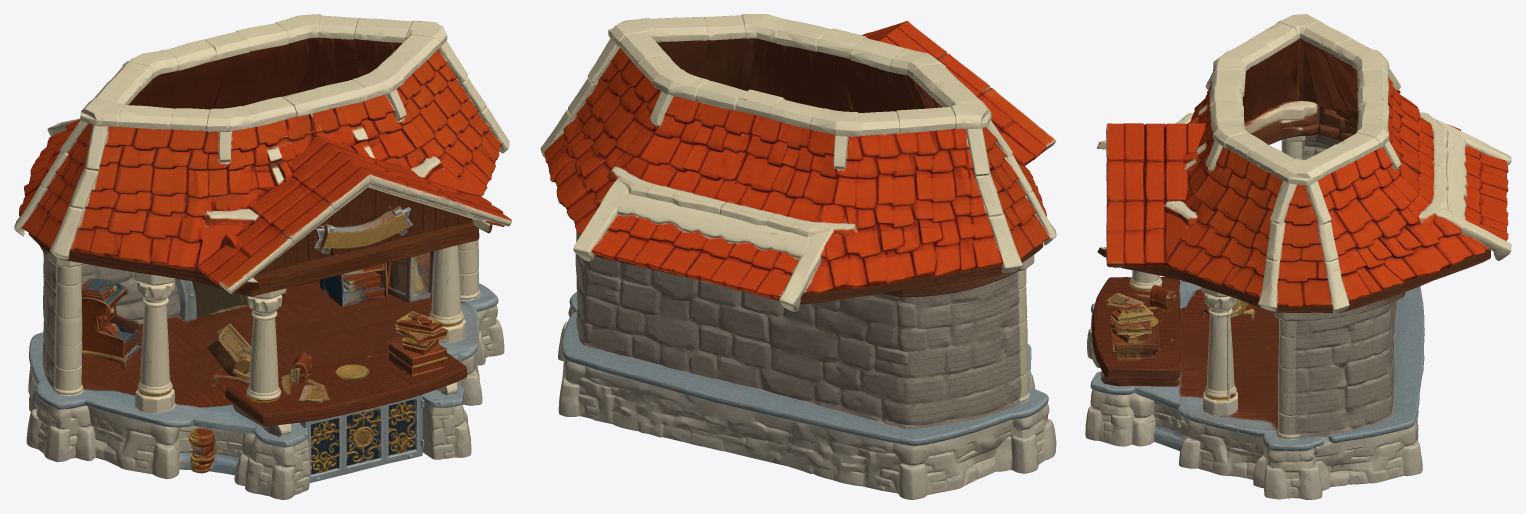
Rendered from Bank_A3.glb.
The picture shows the model from 3 angles, left to right: view 1: azimuth 30°, elevation 25°; view 2: azimuth 150°, elevation 25°; view 3: azimuth 270°, elevation 25°; orthographic projection. The views are drawn at different scales.
Bounding box in the file's own units: 1.9 × 1.29 × 1.63.
1 material, 1 textured.
